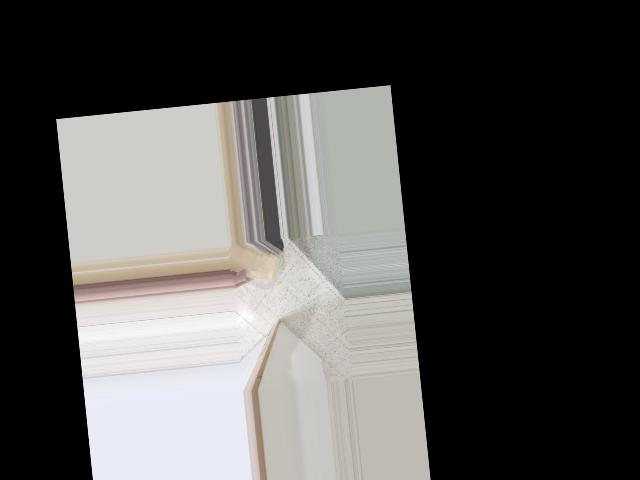cheese: (226, 238, 285, 292)
